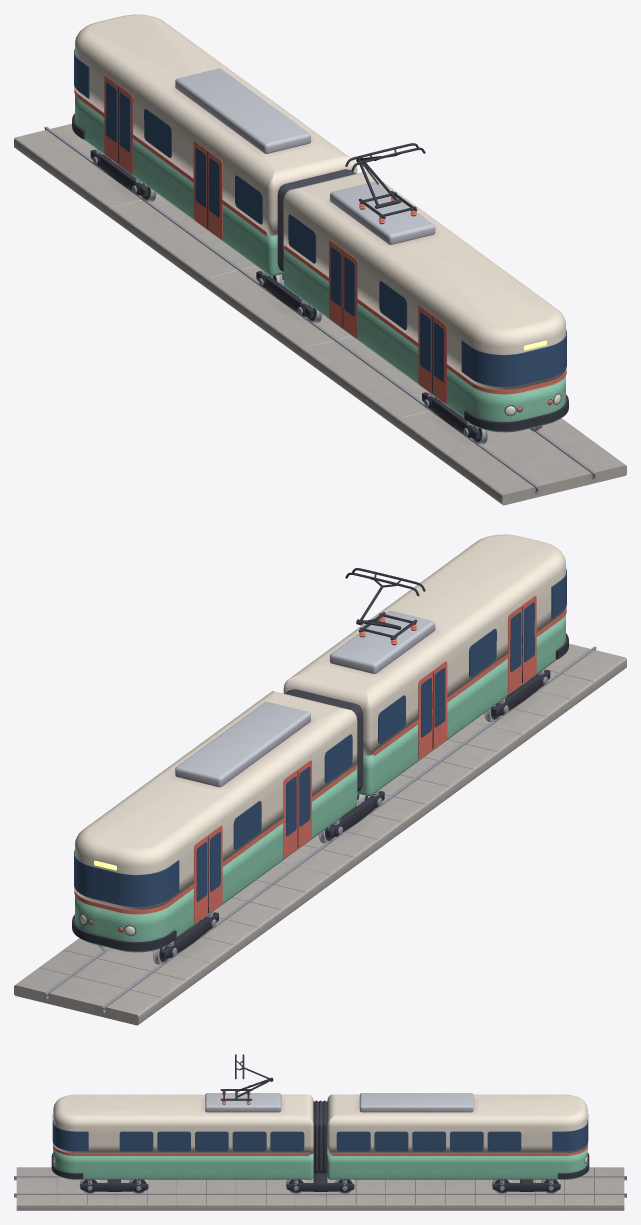
Rendered from tram.glb.
The picture shows the model from 3 angles, top to bottom: view 1: azimuth 30°, elevation 25°; view 2: azimuth 150°, elevation 25°; view 3: azimuth 270°, elevation 25°; orthographic projection. The views are drawn at different scales.
Parts seen in each view (by area): view 1: tram_body, tram_front_windows, tram_rear_windows, tram_pantograph_arms; view 2: tram_body, tram_rear_windows, tram_front_windows, tram_pantograph_arms; view 3: tram_body, tram_front_windows, tram_rear_windows, tram_pantograph_arms.
Boxes of the visible parts, x1,y1,x2,y2 form: tram_body: [14, 14, 626, 505]; tram_front_windows: [288, 214, 566, 386]; tram_rear_windows: [74, 49, 262, 224]; tram_pantograph_arms: [345, 143, 425, 208]; tram_body: [14, 534, 626, 1025]; tram_rear_windows: [74, 734, 352, 906]; tram_front_windows: [378, 569, 566, 744]; tram_pantograph_arms: [345, 568, 425, 629]; tram_body: [14, 1093, 626, 1210]; tram_front_windows: [52, 1114, 304, 1151]; tram_rear_windows: [336, 1114, 588, 1151]; tram_pantograph_arms: [235, 1054, 273, 1098].
Size of the model in its own units: 3.3 by 5.24 by 22.6.
Materials: 53 (1 with a texture image).
